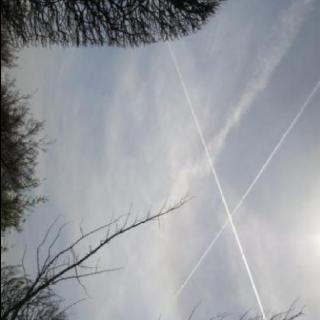Contrails: (155, 41, 320, 320)
